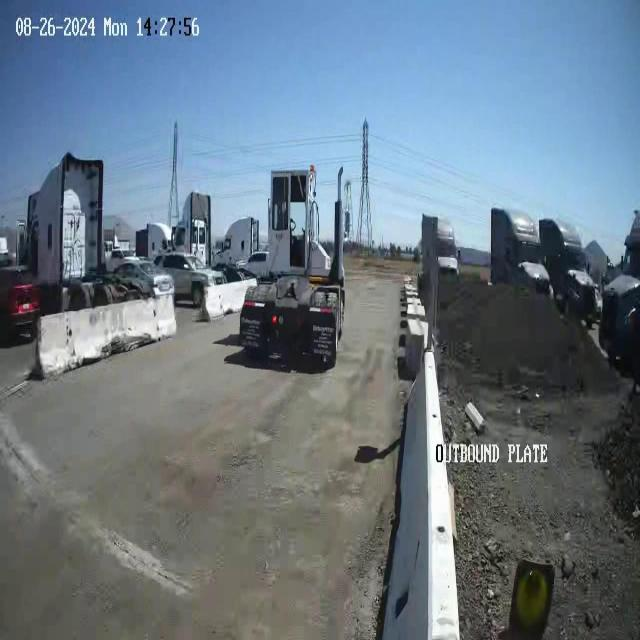BOBTAIL: (238, 163, 346, 373)
